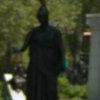Statue: (17, 9, 73, 96)
